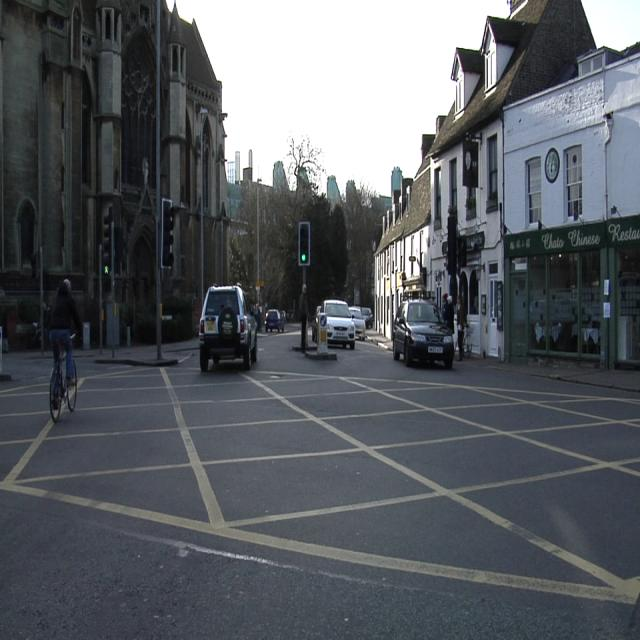Bicyclist: (50, 279, 78, 420)
Building: (378, 0, 595, 355), (1, 1, 155, 344), (503, 41, 639, 367), (228, 133, 382, 313), (160, 2, 225, 339)
Car: (200, 286, 257, 370), (393, 301, 454, 366), (319, 301, 354, 347), (352, 307, 365, 339), (265, 310, 284, 331)
Road: (0, 331, 639, 618)
Tree: (284, 134, 346, 307)
